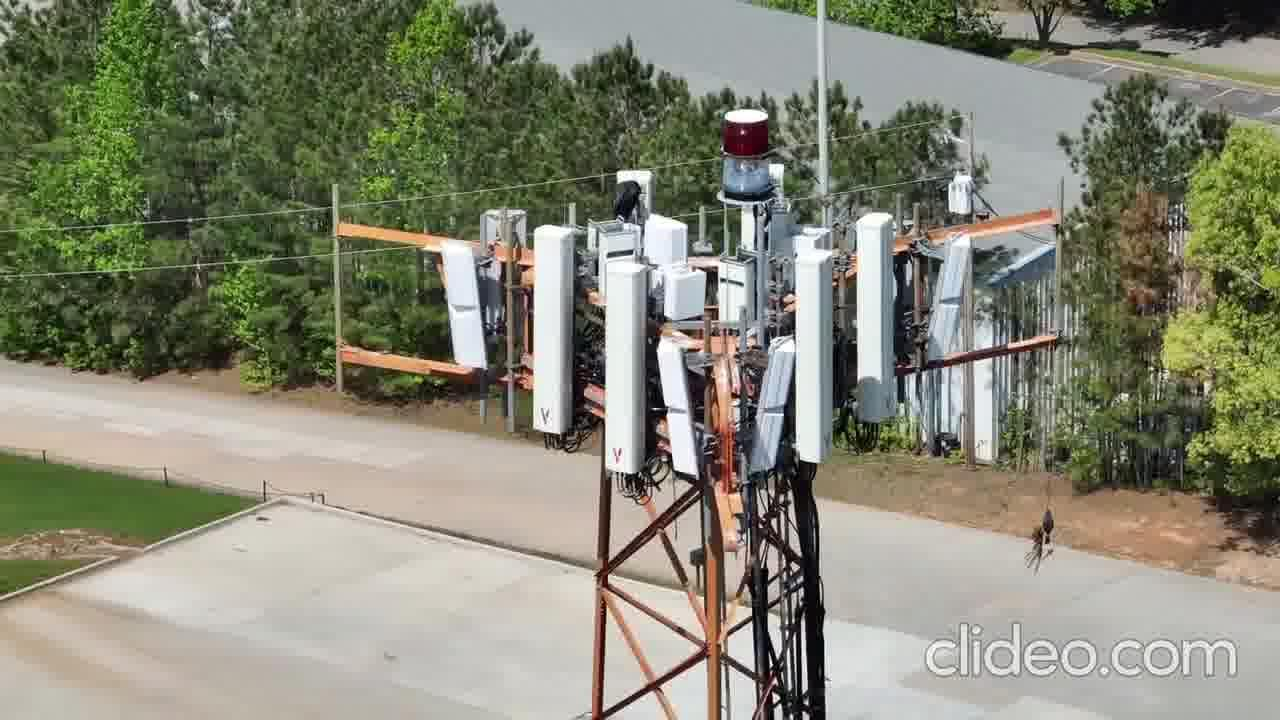antenna: (602, 261, 659, 493), (528, 222, 585, 443), (854, 204, 907, 432), (789, 246, 837, 476), (430, 233, 486, 374), (655, 329, 702, 483), (663, 258, 711, 324)
